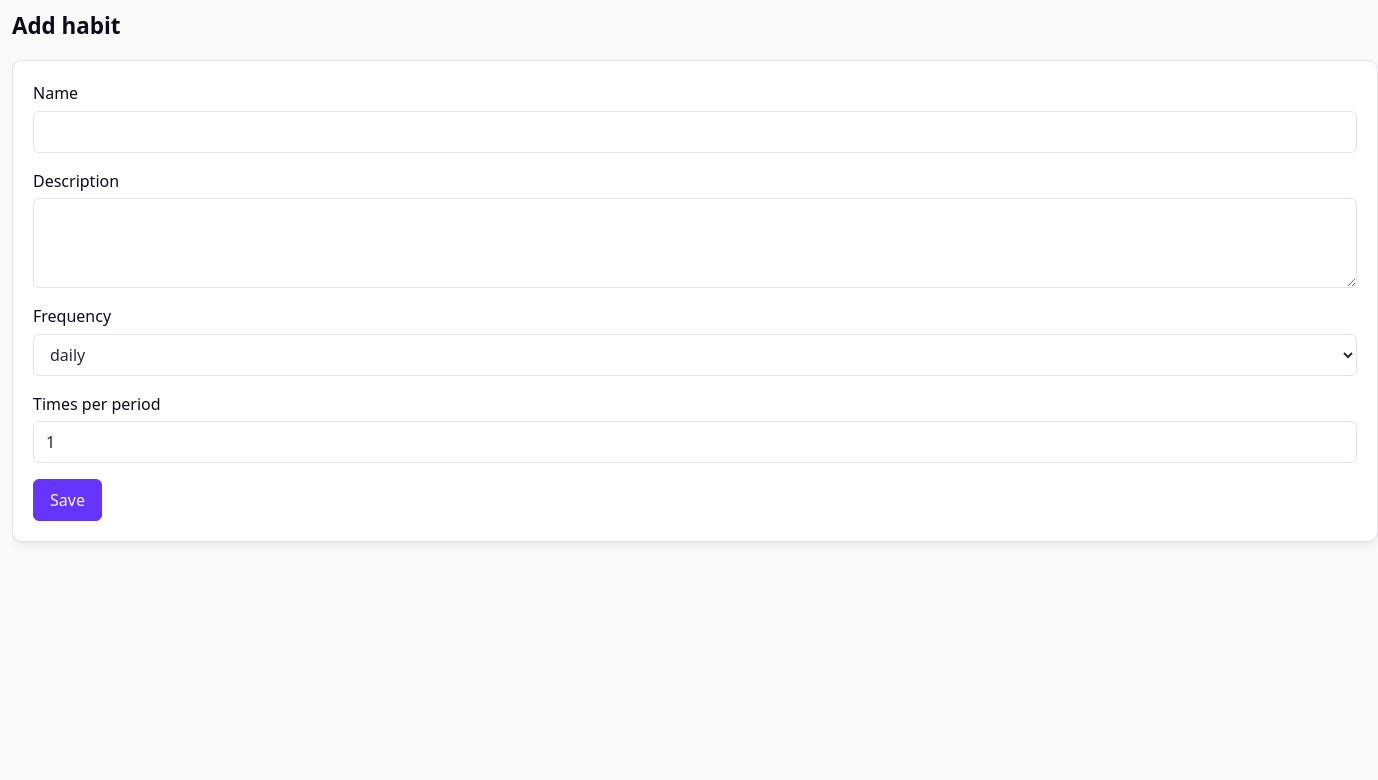
Test: AddHabit › rejects target_per_period < 1
Type "Drink water" into the field labelled "Name". click: (695,132)
box: [33,111,1357,153]
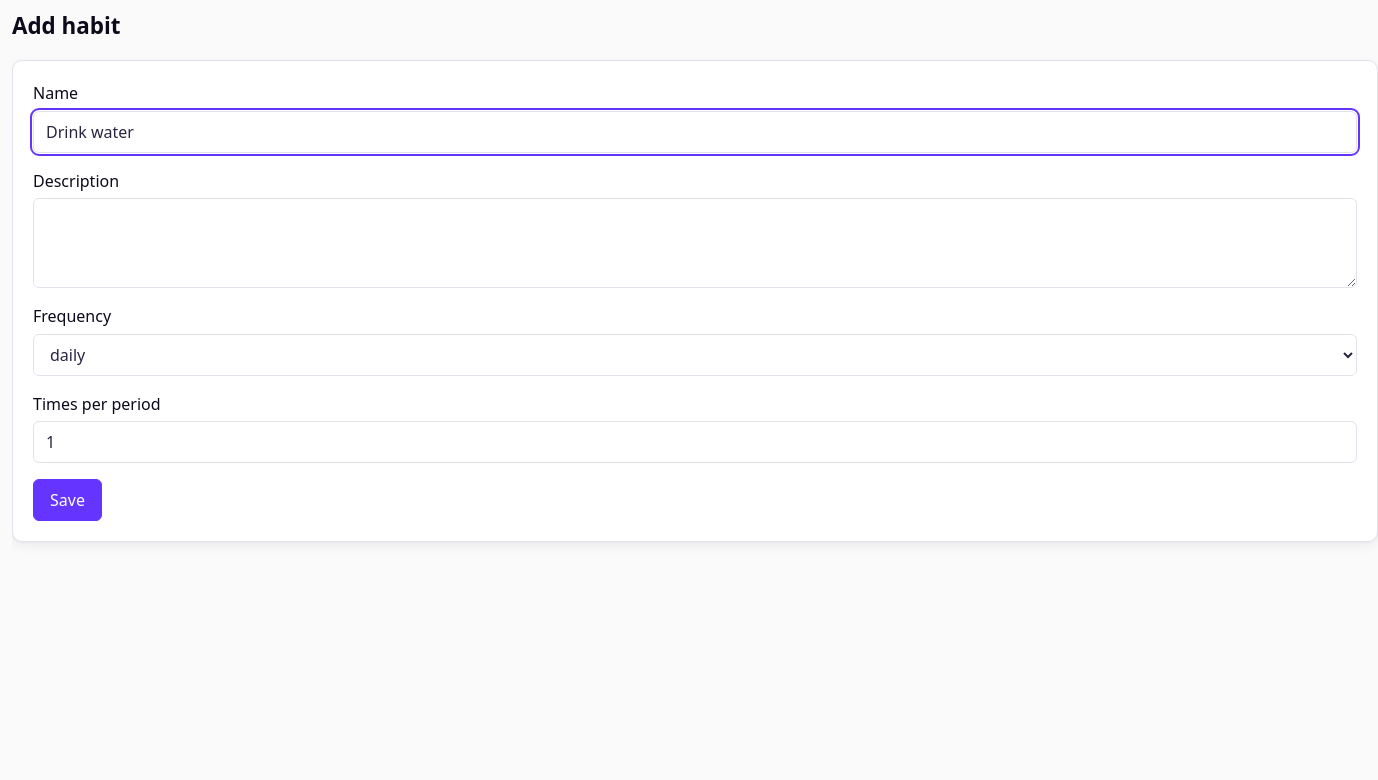
Replace the text in the number field labelled "Times per period" with "0". click: (695,442)
box: [33,421,1357,463]
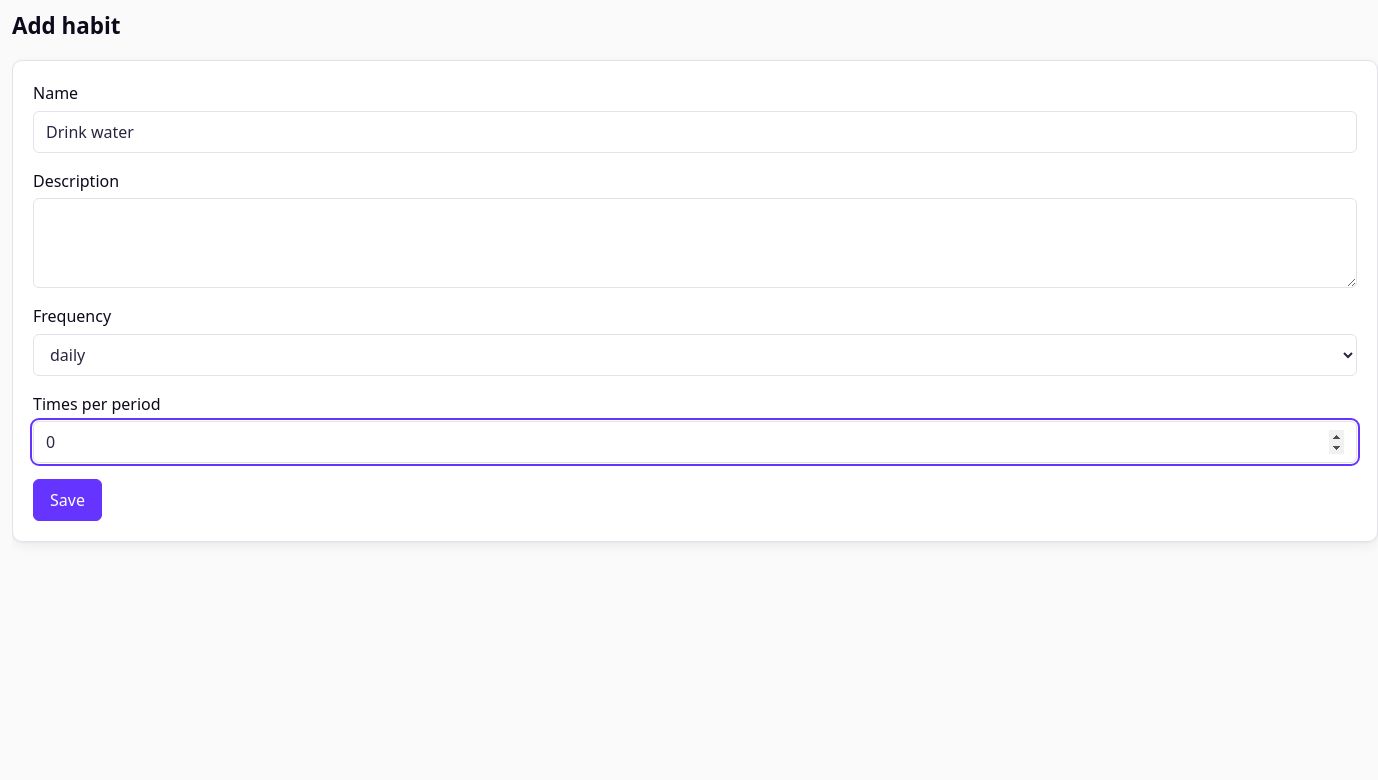
Click the button "Save". click: (67,500)
box: [33,479,102,521]
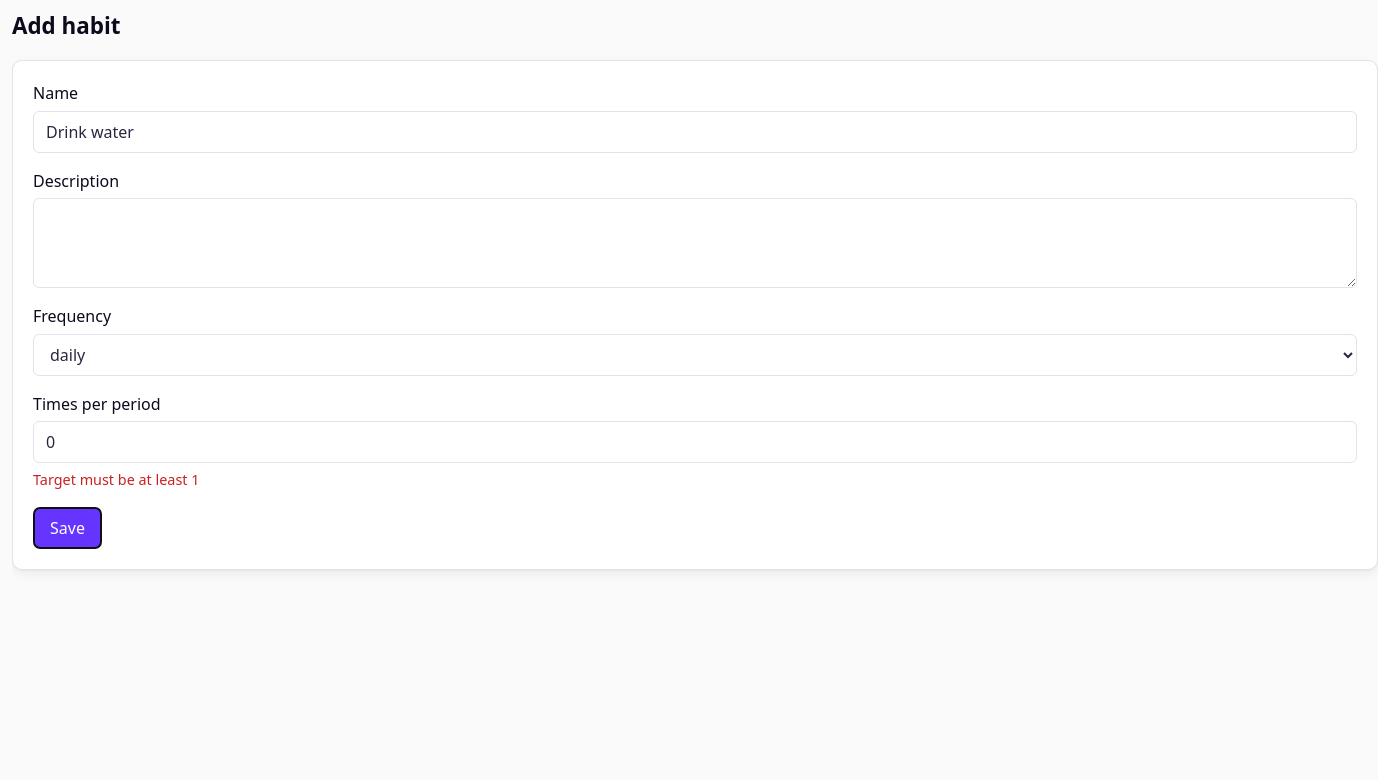
Expected: the text "Target must be at least 1" is shown, [33,470,200,489]
